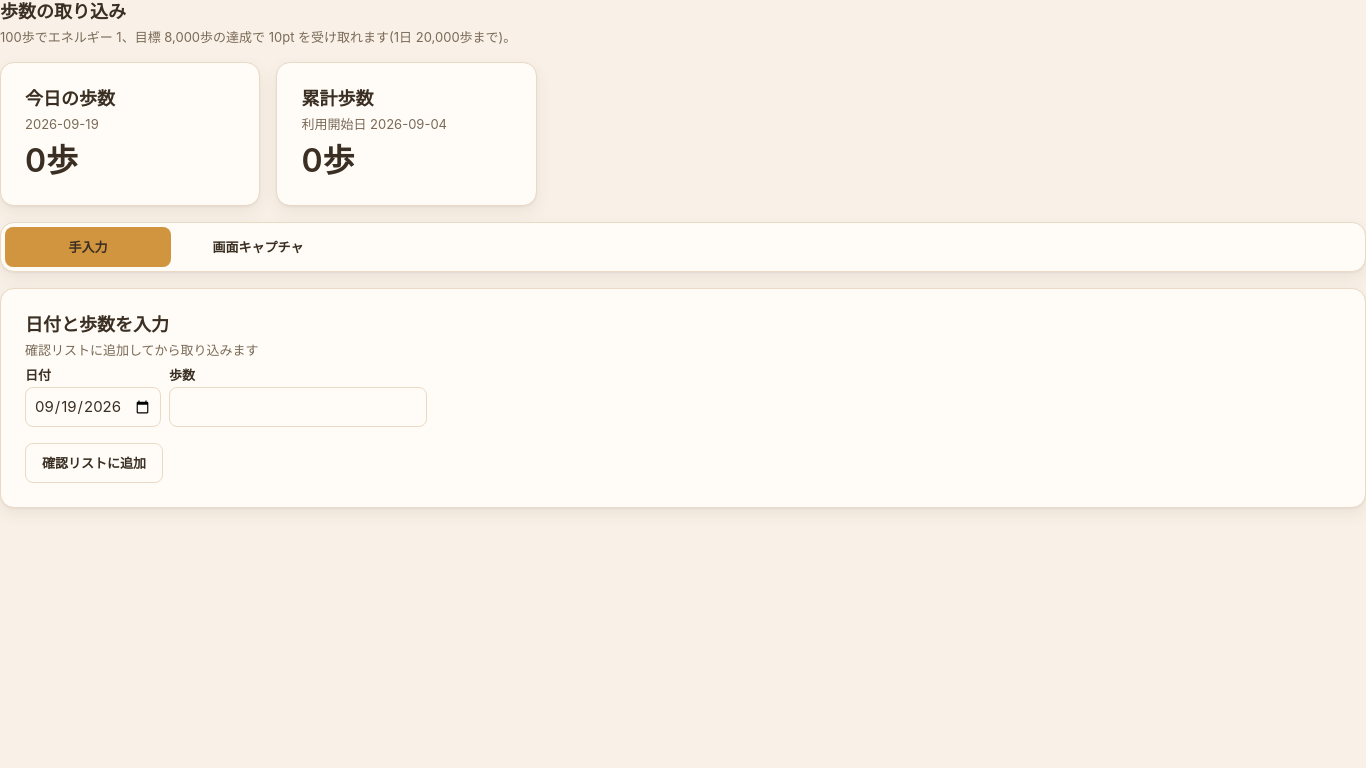
Test: StepImportPage › 手入力した歩数を確認して取り込む
In the date field labelled "日付": (93, 407) x1=25 y1=387 x2=161 y2=427, type "2026-09-10"
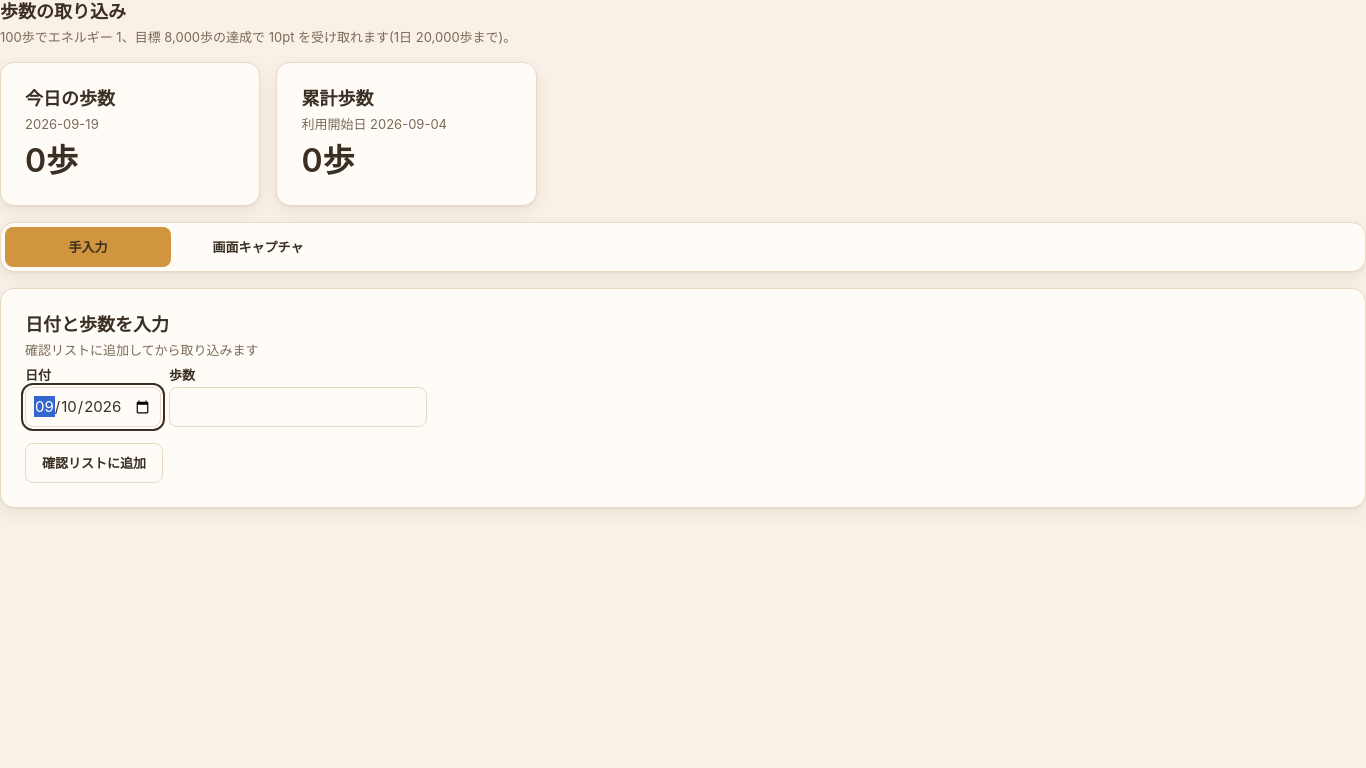
In the field labelled "歩数": (298, 407) x1=169 y1=387 x2=427 y2=427, type "11,671"
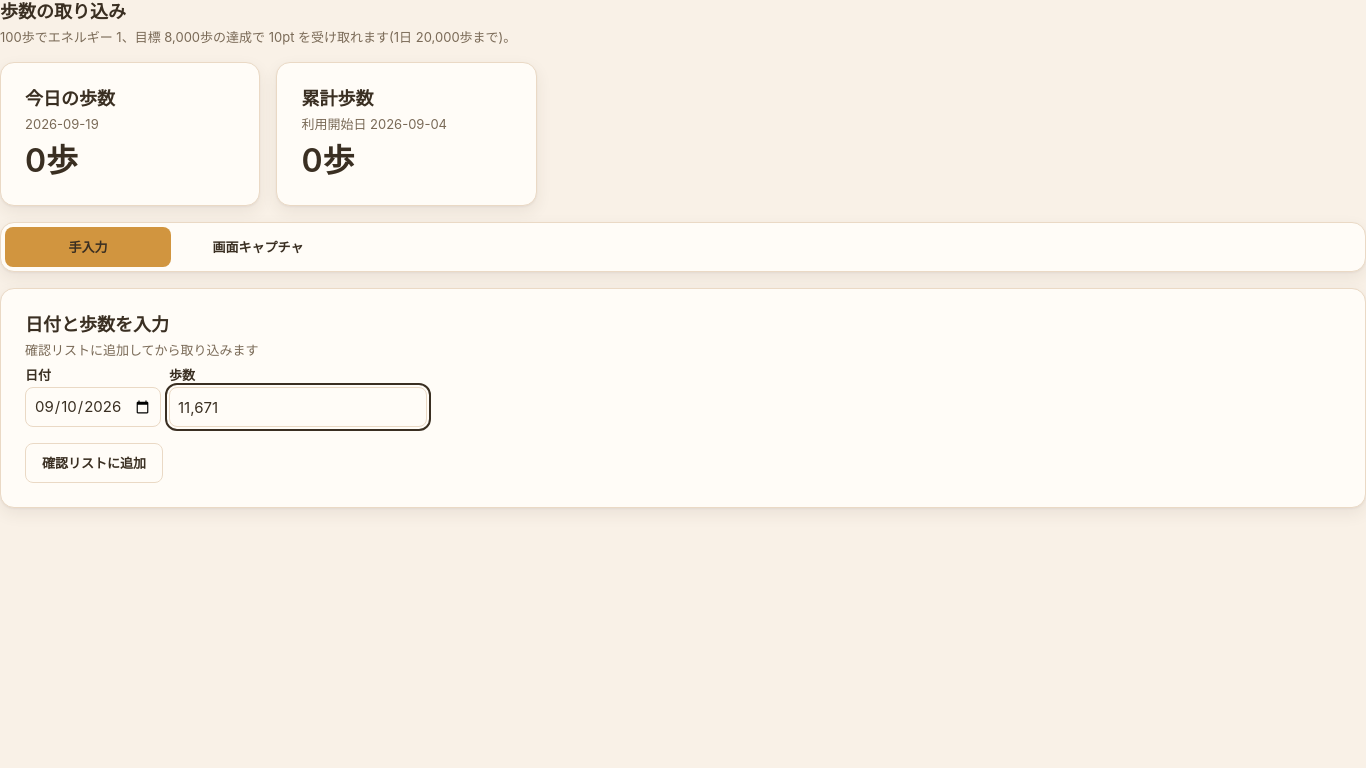
Click the button "確認リストに追加": click(94, 463) x1=25 y1=443 x2=163 y2=483
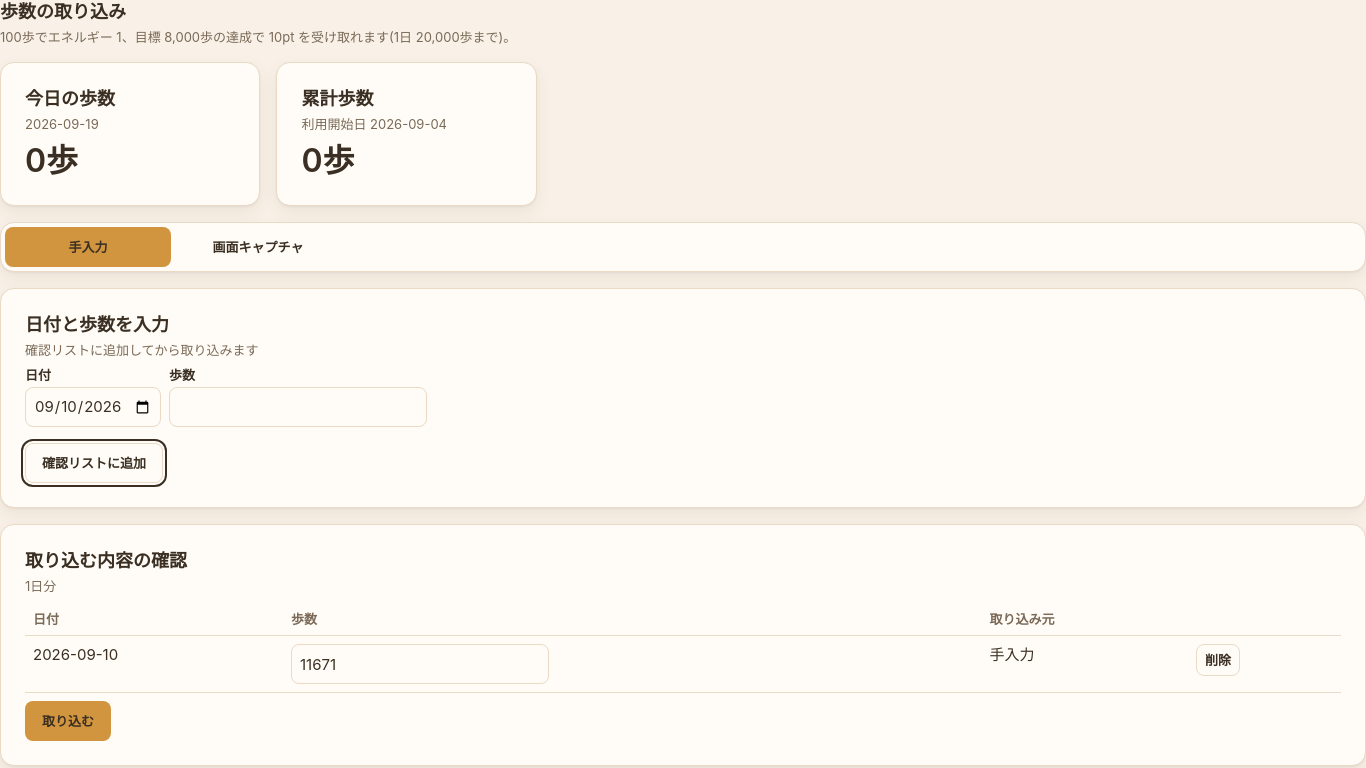
Click the button "取り込む": click(68, 721) x1=25 y1=701 x2=111 y2=741
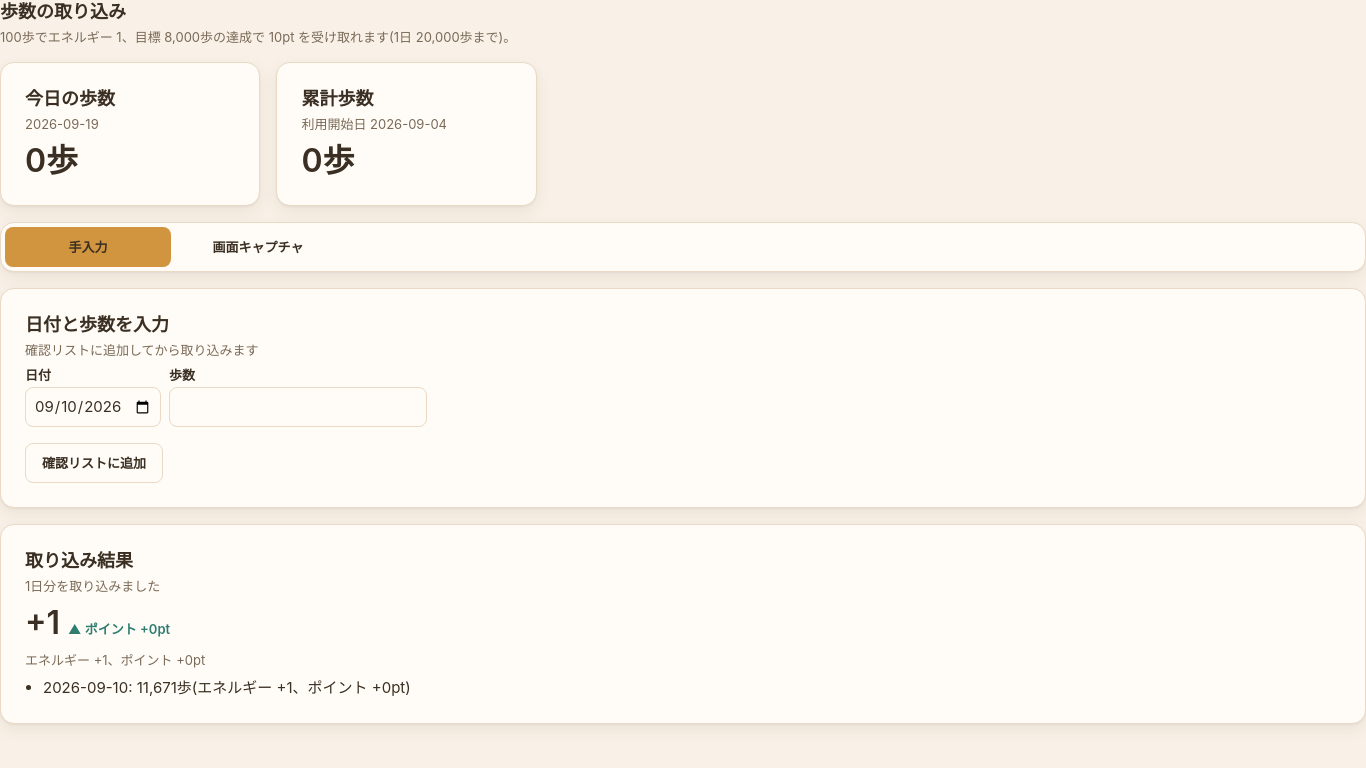
expect the text "1日分を取り込みました" is shown: met, box x1=25 y1=578 x2=160 y2=594
